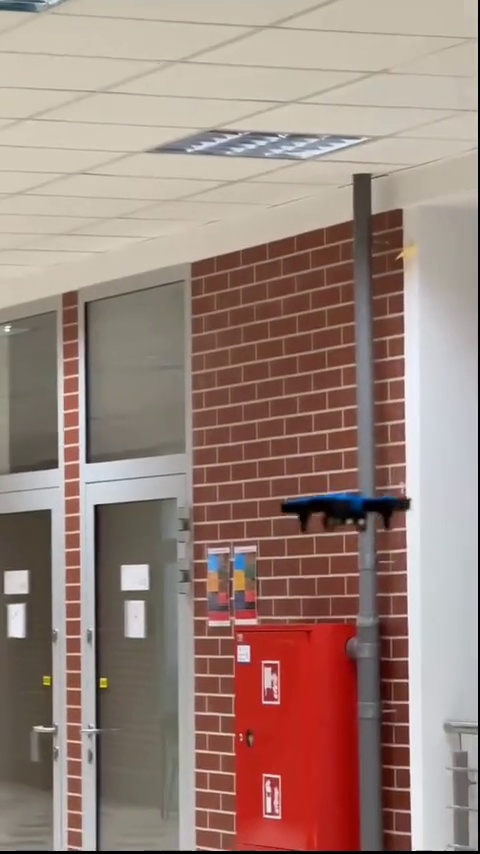drone: (275, 490, 410, 534)
